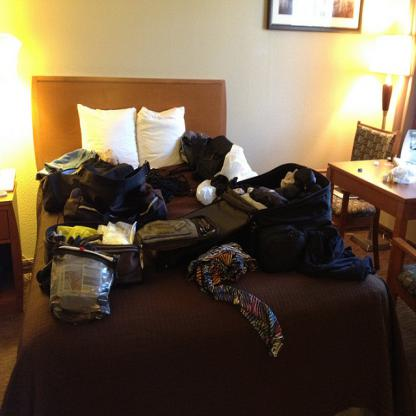backpack: (63, 160, 169, 232), (196, 134, 233, 181)
handbag: (59, 153, 159, 221)
suitcase: (152, 159, 336, 268), (43, 220, 144, 285), (134, 212, 221, 255)
